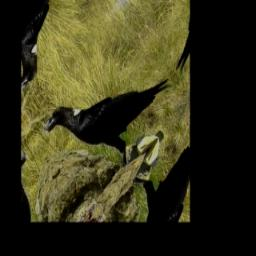Crow: (40, 18, 183, 206)
